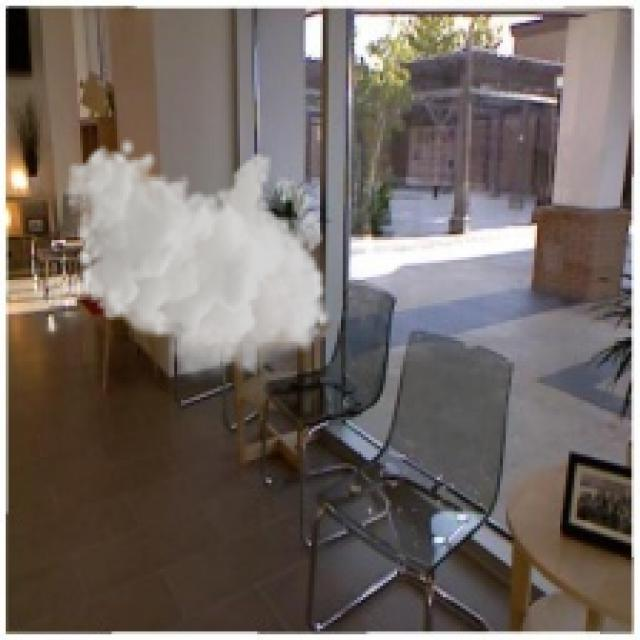smoke: (66, 137, 331, 386)
